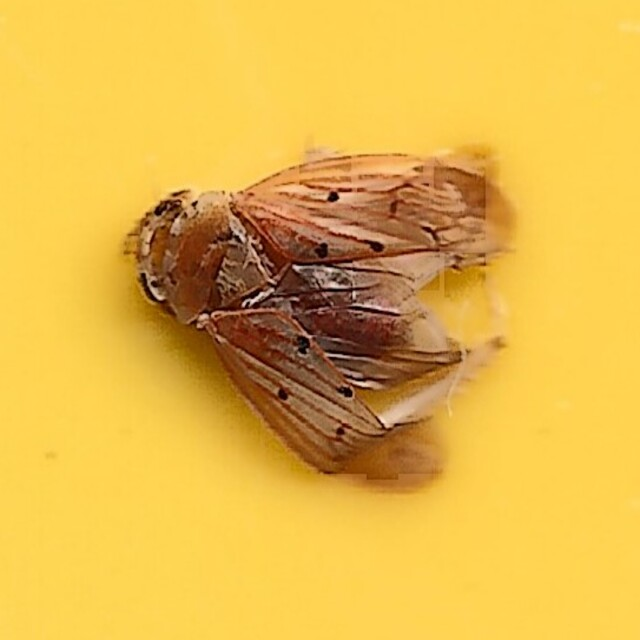Hemiptera: (118, 144, 522, 496)
